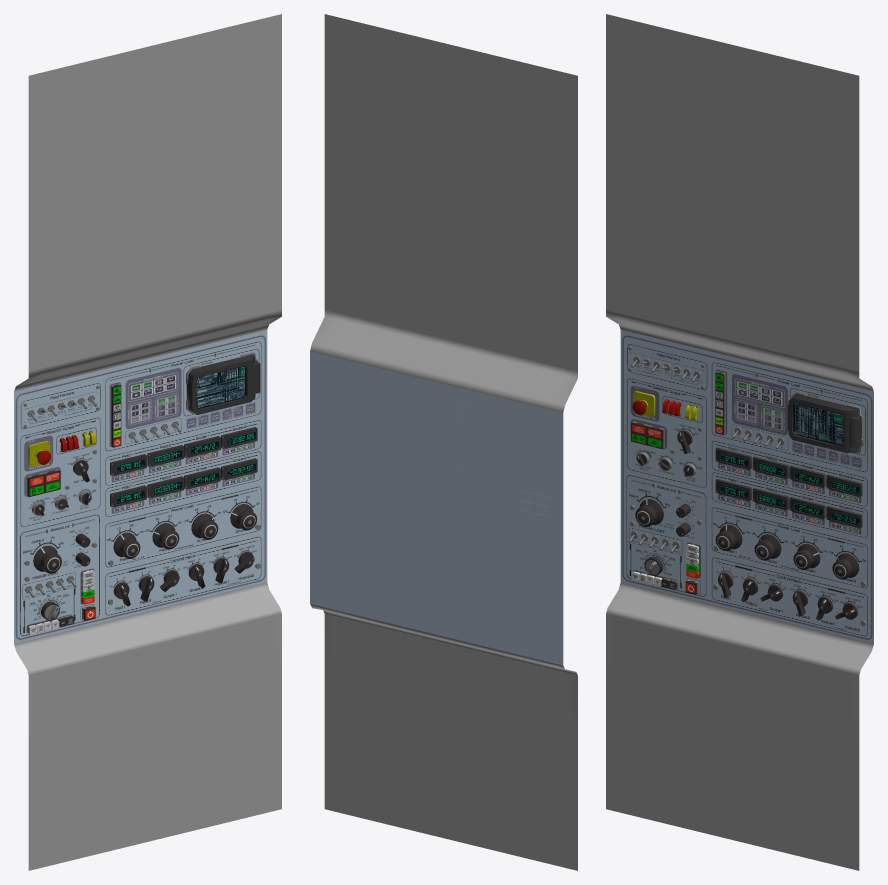
Rendered from Wall_113_ControlPanel_1x3.fbx.
3 views of the same model, side by side, from view 1: azimuth 30°, elevation 25°; view 2: azimuth 150°, elevation 25°; view 3: azimuth 330°, elevation 25° (orthographic).
Parts seen in each view (by area): view 1: Wall_113_ControlPanel_1x3, LOD_0.040, LOD_0.047, LOD_0.065, LOD_0.061, LOD_0.058, LOD_0.070, LOD_0.093, LOD_0.049, Screen_04.019, Screen_05.015; view 2: Wall_113_ControlPanel_1x3; view 3: Wall_113_ControlPanel_1x3, LOD_0.040, LOD_0.047, LOD_0.065, LOD_0.061, LOD_0.058, LOD_0.070, LOD_0.093, LOD_0.049, Screen_02.020, Screen_01.020.
Boxes of the visible parts, x1,y1,x2,y2 form: Wall_113_ControlPanel_1x3: (14, 14, 281, 870); LOD_0.040: (105, 340, 261, 452); LOD_0.047: (19, 513, 99, 637); LOD_0.065: (20, 416, 100, 527); LOD_0.061: (105, 485, 261, 568); LOD_0.058: (105, 535, 261, 616); LOD_0.070: (105, 419, 261, 486); LOD_0.093: (105, 450, 261, 517); LOD_0.049: (20, 382, 100, 429); Screen_04.019: (196, 366, 246, 407); Screen_05.015: (196, 367, 244, 408); Wall_113_ControlPanel_1x3: (310, 14, 577, 870); Wall_113_ControlPanel_1x3: (606, 14, 873, 870); LOD_0.040: (711, 361, 867, 472); LOD_0.047: (626, 474, 706, 597); LOD_0.065: (626, 377, 706, 488); LOD_0.061: (711, 506, 867, 589); LOD_0.058: (711, 556, 867, 637); LOD_0.070: (711, 440, 867, 507); LOD_0.093: (711, 471, 867, 538); LOD_0.049: (627, 343, 707, 390); Screen_02.020: (794, 403, 842, 444); Screen_01.020: (793, 404, 843, 445).
Size of what is drawn, in the model's own units: 1 by 3 by 0.1018.
